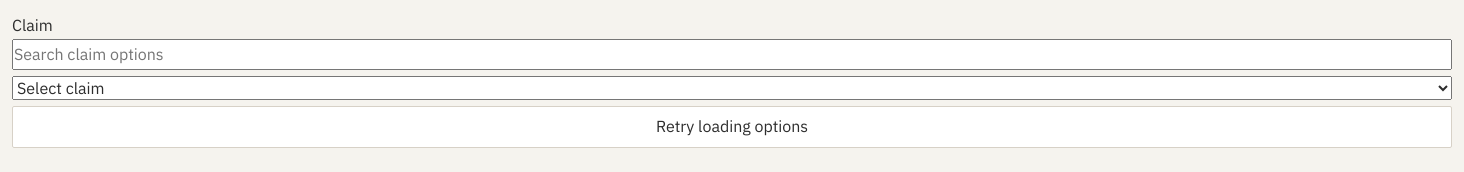
the record selector retries a failed request
Click the button "Retry loading options" at (732, 127), box [12, 106, 1452, 148]
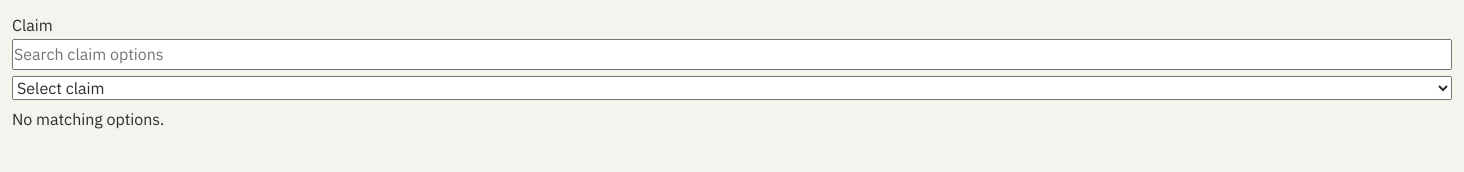
expect the text "No matching options." is shown: met, box [12, 109, 164, 129]
